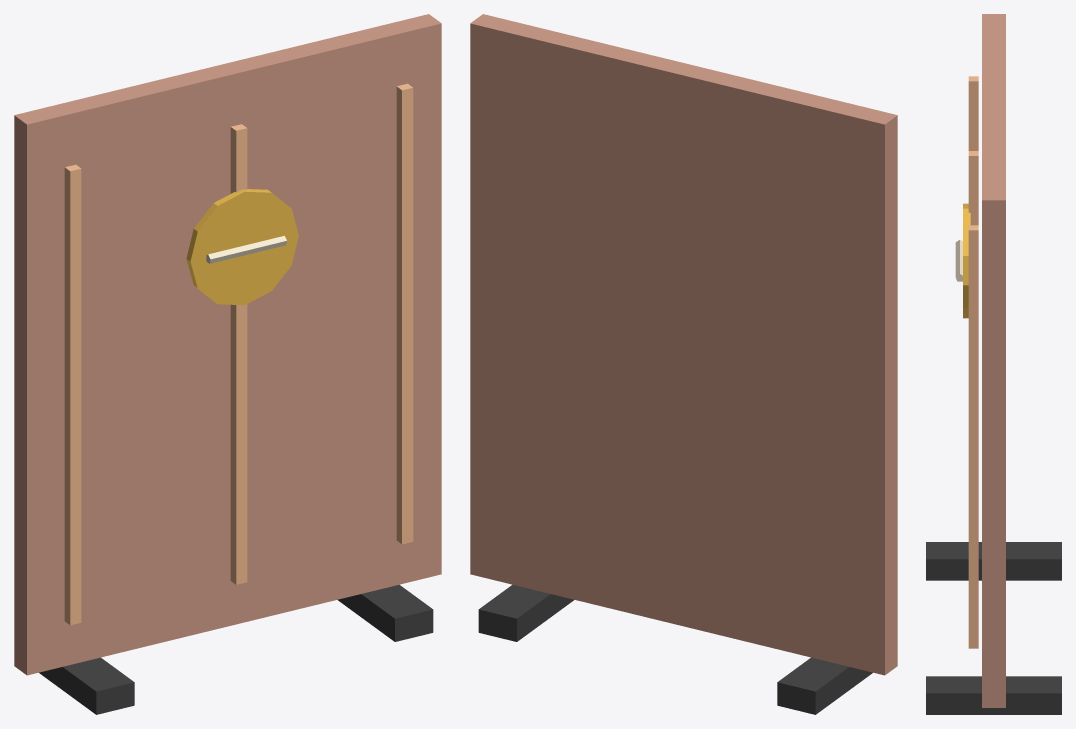
The picture shows the model from 3 angles, left to right: view 1: azimuth 30°, elevation 25°; view 2: azimuth 150°, elevation 25°; view 3: azimuth 270°, elevation 25°; orthographic projection. The views are drawn at different scales.
Parts seen in each view (by area): view 1: Panel, Abstract circular medallion, Wood molding, Wood molding.002, Wood molding.001, Panel foot.001, Panel foot, Balanced motif; view 2: Panel, Panel foot.001, Panel foot; view 3: Panel, Wood molding.002, Panel foot.001, Panel foot, Wood molding, Wood molding.001, Abstract circular medallion, Balanced motif.
Boxes of the visible parts, x1,y1,x2,y2 form: Panel: [14, 14, 441, 675]; Abstract circular medallion: [186, 189, 298, 305]; Wood molding: [64, 164, 81, 625]; Wood molding.002: [396, 83, 413, 544]; Wood molding.001: [230, 124, 247, 584]; Panel foot.001: [337, 584, 433, 641]; Panel foot: [39, 657, 134, 714]; Balanced motif: [206, 236, 286, 263]; Panel: [470, 14, 897, 675]; Panel foot.001: [478, 584, 574, 641]; Panel foot: [777, 657, 872, 714]; Panel: [982, 14, 1005, 707]; Wood molding.002: [968, 225, 978, 648]; Panel foot.001: [926, 676, 1061, 714]; Panel foot: [926, 542, 1061, 580]; Wood molding: [968, 76, 978, 150]; Wood molding.001: [968, 151, 978, 225]; Abstract circular medallion: [963, 203, 970, 318]; Balanced motif: [955, 239, 962, 281].
Size of the model in its own units: 1.3 by 1.73 by 0.4.
1 material, 1 textured.
